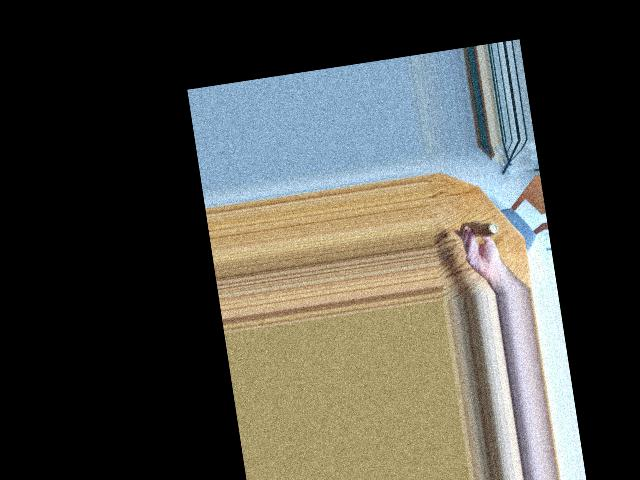sweet_potato: (458, 217, 494, 235)
